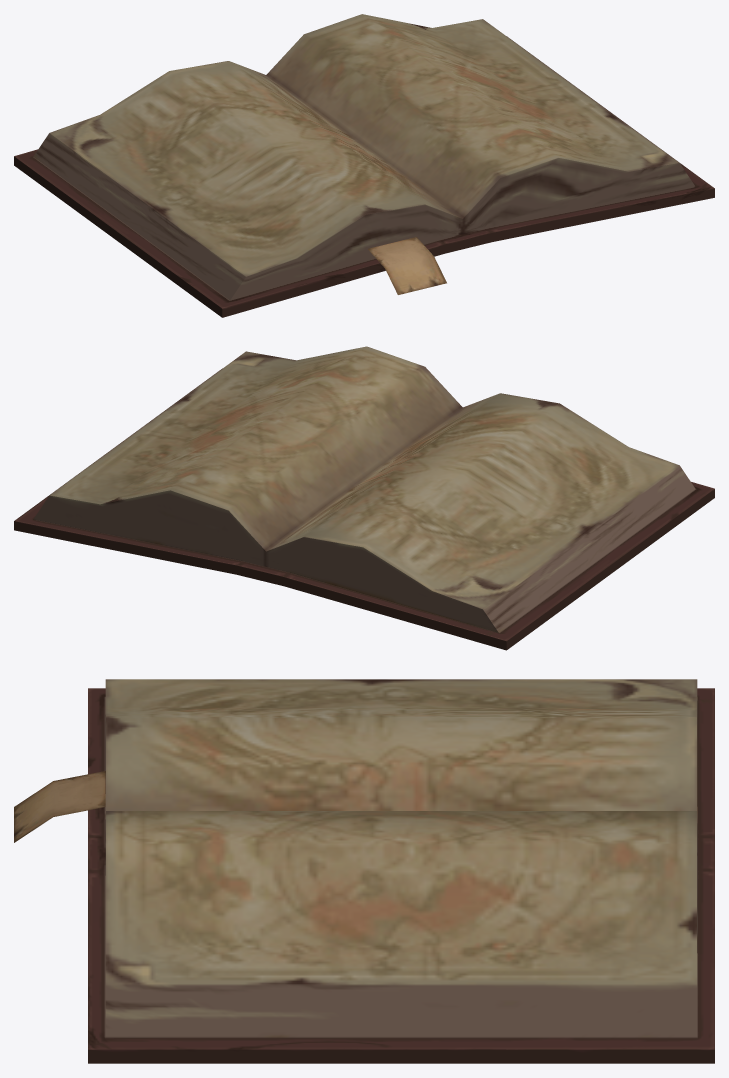
File: sn_chengbao_magicbook_001.FBX
The picture shows the model from 3 angles, top to bottom: view 1: azimuth 30°, elevation 25°; view 2: azimuth 150°, elevation 25°; view 3: azimuth 270°, elevation 25°; orthographic projection. The views are drawn at different scales.
Visible parts, largest first — view 1: sn_chengbao_magicbook_001; view 2: sn_chengbao_magicbook_001; view 3: sn_chengbao_magicbook_001.
Part boxes in pixels (left/top/right/bottom): sn_chengbao_magicbook_001: left=14, top=14, right=714, bottom=317; sn_chengbao_magicbook_001: left=14, top=346, right=714, bottom=650; sn_chengbao_magicbook_001: left=14, top=679, right=714, bottom=1063.
Size of the model in its own units: 248 by 204 by 34.9.
